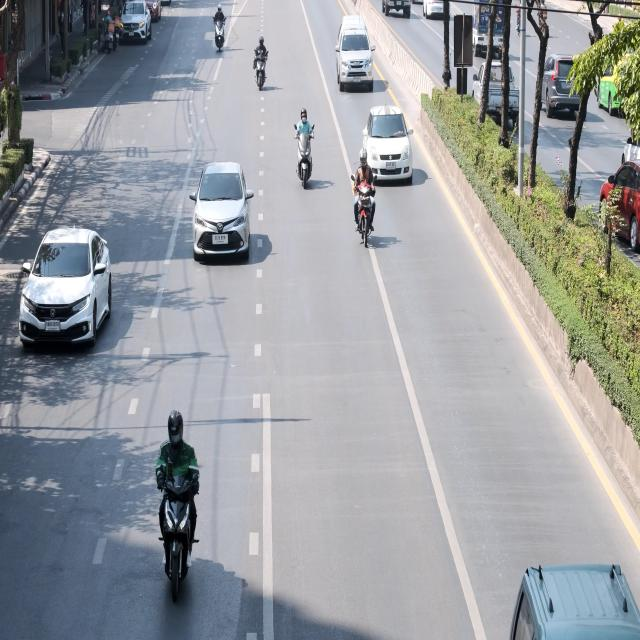cars: (12, 215, 120, 388), (142, 386, 212, 612), (173, 150, 268, 288), (349, 97, 418, 204), (464, 51, 522, 155), (320, 16, 388, 103), (528, 54, 594, 128), (456, 0, 524, 65), (591, 163, 640, 252), (590, 51, 637, 126), (102, 0, 156, 44), (606, 122, 640, 184), (124, 0, 168, 23)
motorcycle: (340, 138, 386, 269), (285, 112, 319, 210), (200, 0, 229, 83), (248, 26, 270, 111), (93, 6, 115, 61), (110, 4, 122, 54)
